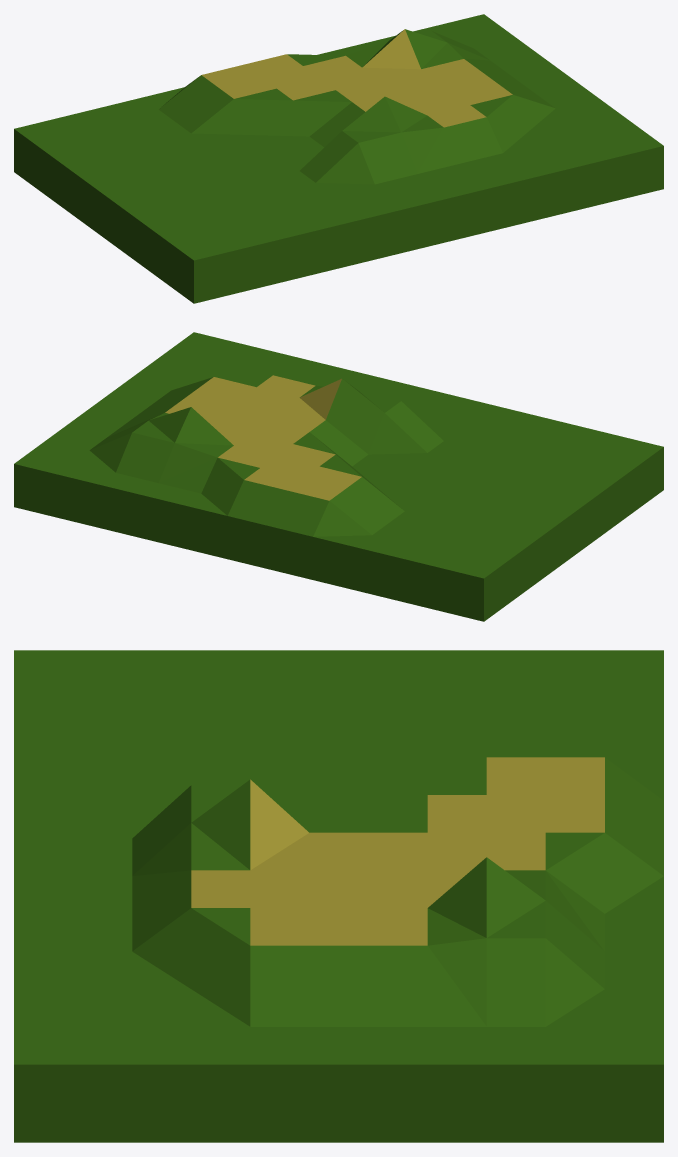
3 renders of one model, top to bottom at view 1: azimuth 30°, elevation 25°; view 2: azimuth 150°, elevation 25°; view 3: azimuth 270°, elevation 25°, orthographic. The views are drawn at different scales.
Visible parts, largest first — view 1: Cube; view 2: Cube; view 3: Cube.
Part boxes in pixels (<box>): Cube: <box>14,14,663,303</box>; Cube: <box>14,332,663,621</box>; Cube: <box>14,650,663,1142</box>.
Size of the model in its own units: 22.73 by 4.48 by 15.08.
